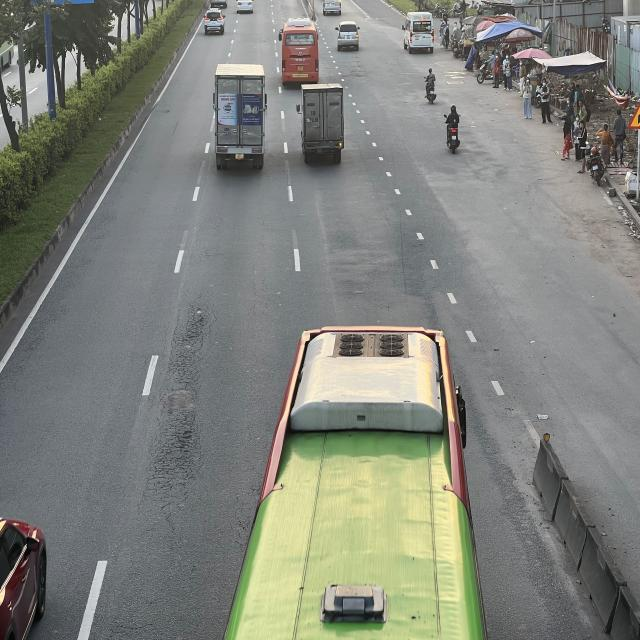car: (336, 22, 360, 52), (203, 8, 226, 36), (324, 0, 344, 15)
coach: (211, 320, 486, 630), (277, 18, 319, 86)
truck: (212, 62, 265, 169), (299, 81, 347, 163)
van: (403, 13, 436, 53)
